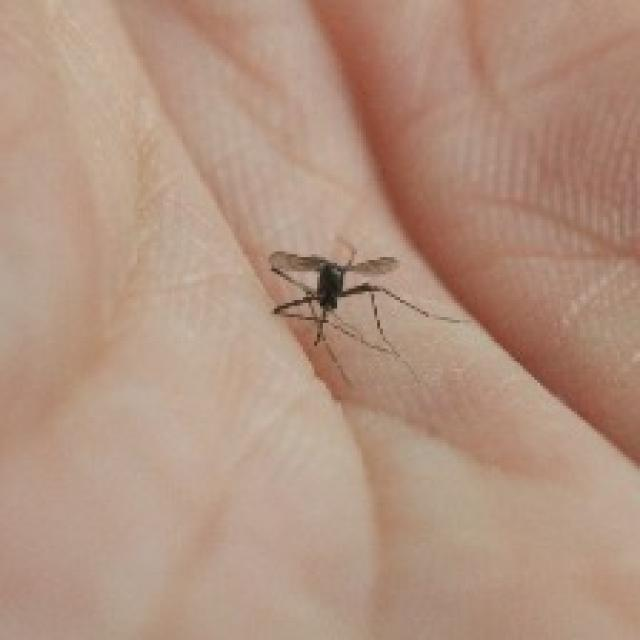aedes: (263, 237, 466, 386)
